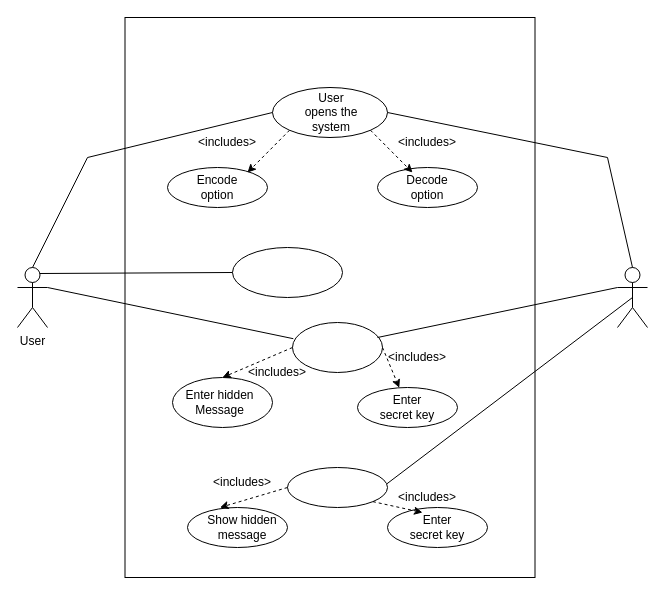
Some shapes in this 670 by 595 pixel diagram are drawn without their labels. The shapes that lost their labels are listed below. From the top down, each one's centre as x and y in pixels, then its label:
point 287,272: Upload video
point 632,297: System
point 337,347: Encrypt
point 337,487: Decrypt
